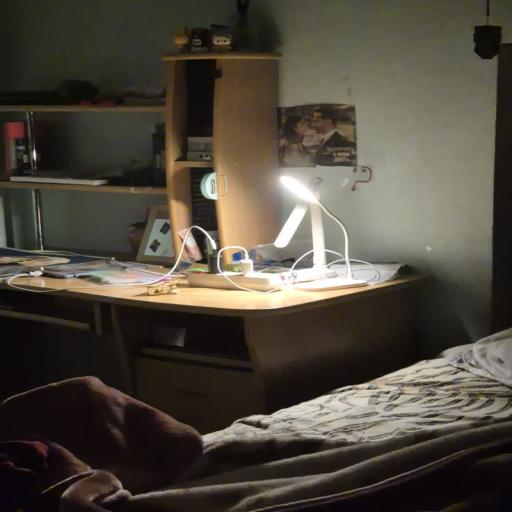person: (42, 350, 511, 511)
road: (0, 182, 166, 195), (0, 105, 165, 113), (163, 52, 281, 61), (174, 161, 213, 168)
stroller: (0, 276, 425, 432)
